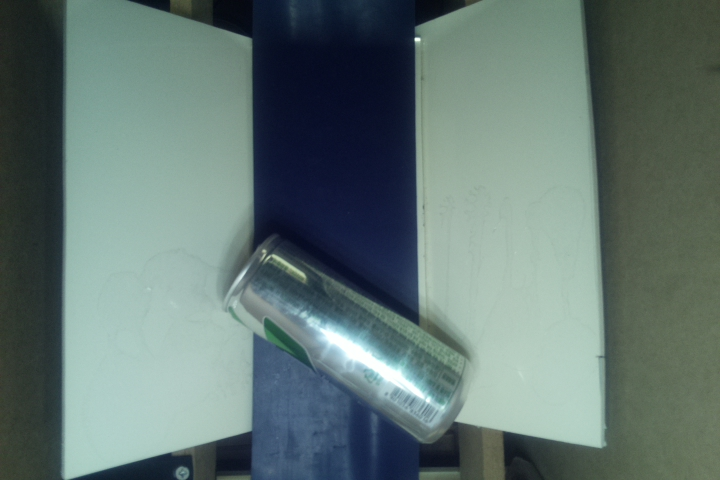can: (221, 230, 475, 447)
